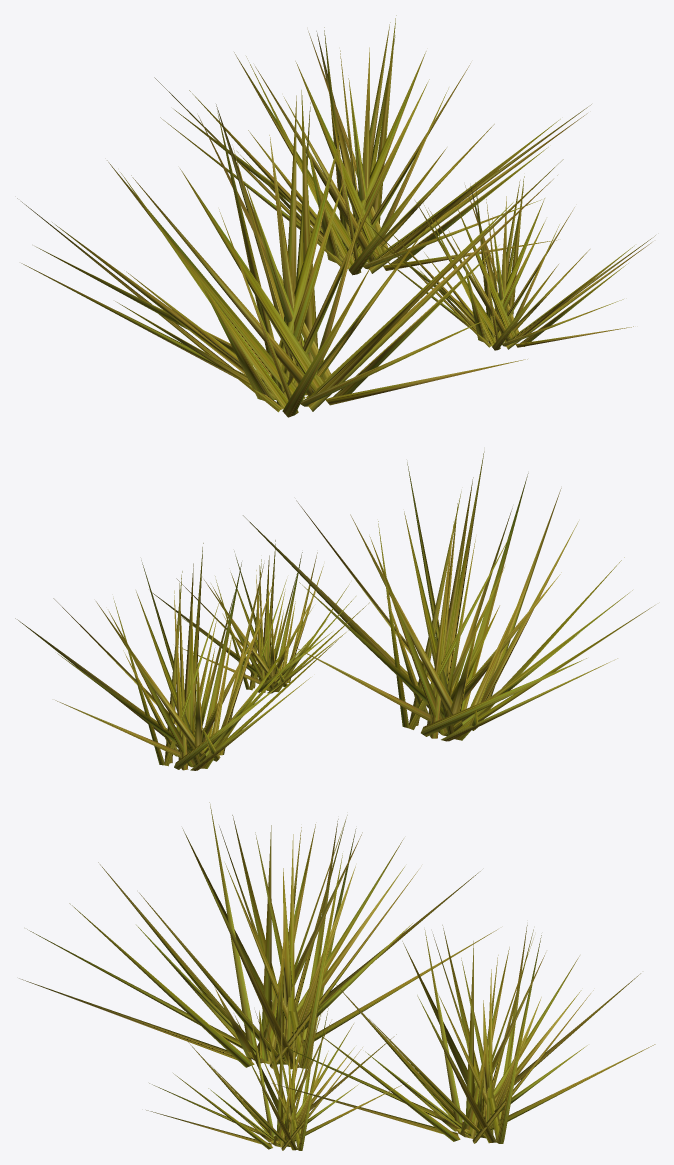
Rendered from grass.dae.
3 views of the same model, one above another, from view 1: azimuth 30°, elevation 25°; view 2: azimuth 150°, elevation 25°; view 3: azimuth 270°, elevation 25° (orthographic). The views are drawn at different scales.
Visible parts, largest first — view 1: Cube; view 2: Cube; view 3: Cube.
Boxes of the visible parts, x1,y1,x2,y2 form: Cube: (17, 15, 655, 417); Cube: (15, 451, 654, 770); Cube: (19, 802, 655, 1150).
Size of the model in its own units: 3.2 by 3.27 by 1.29.
1 material, 1 textured.
